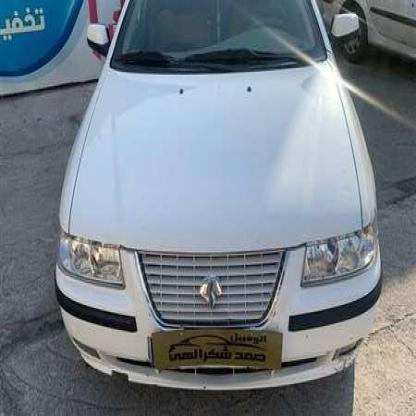Car: (51, 0, 388, 390), (322, 0, 416, 83)
